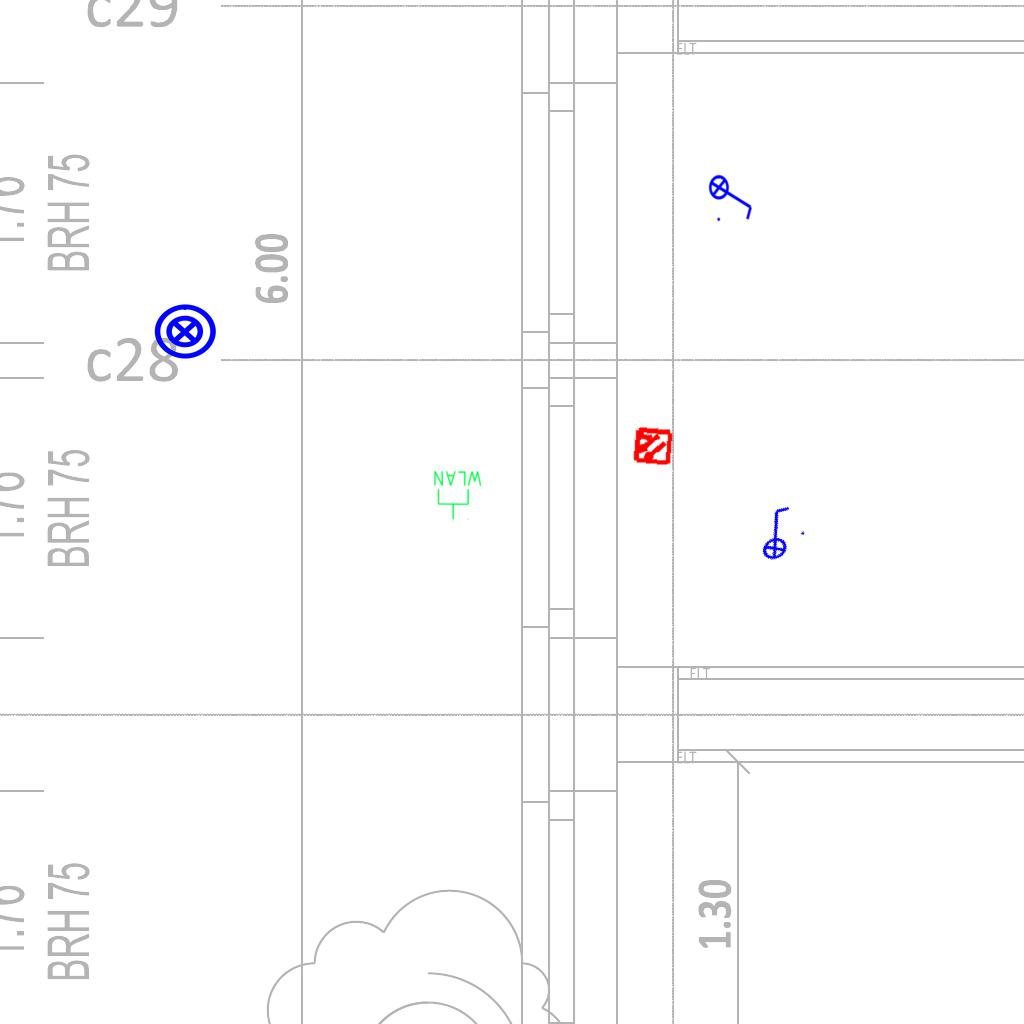Ausschalter_beleuchtet: (739, 498, 813, 568), (708, 168, 756, 224)
OT_Multisensormelder_(Kombination_RMO_WMD): (621, 415, 683, 477)
Taster_beleuchtet: (152, 299, 218, 365)
WLAN: (432, 469, 484, 521)
